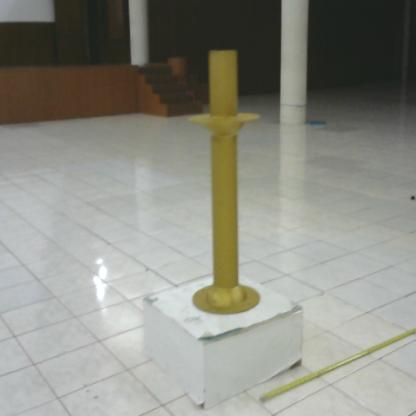pole: (183, 43, 268, 324)
